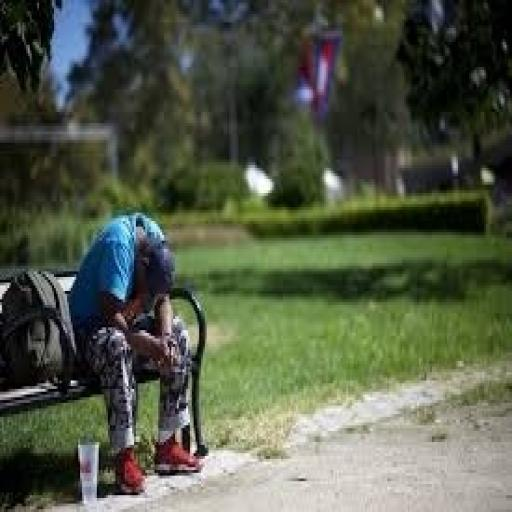sitting: (65, 207, 205, 495)
